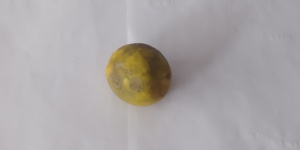BAD: (106, 40, 175, 112)
